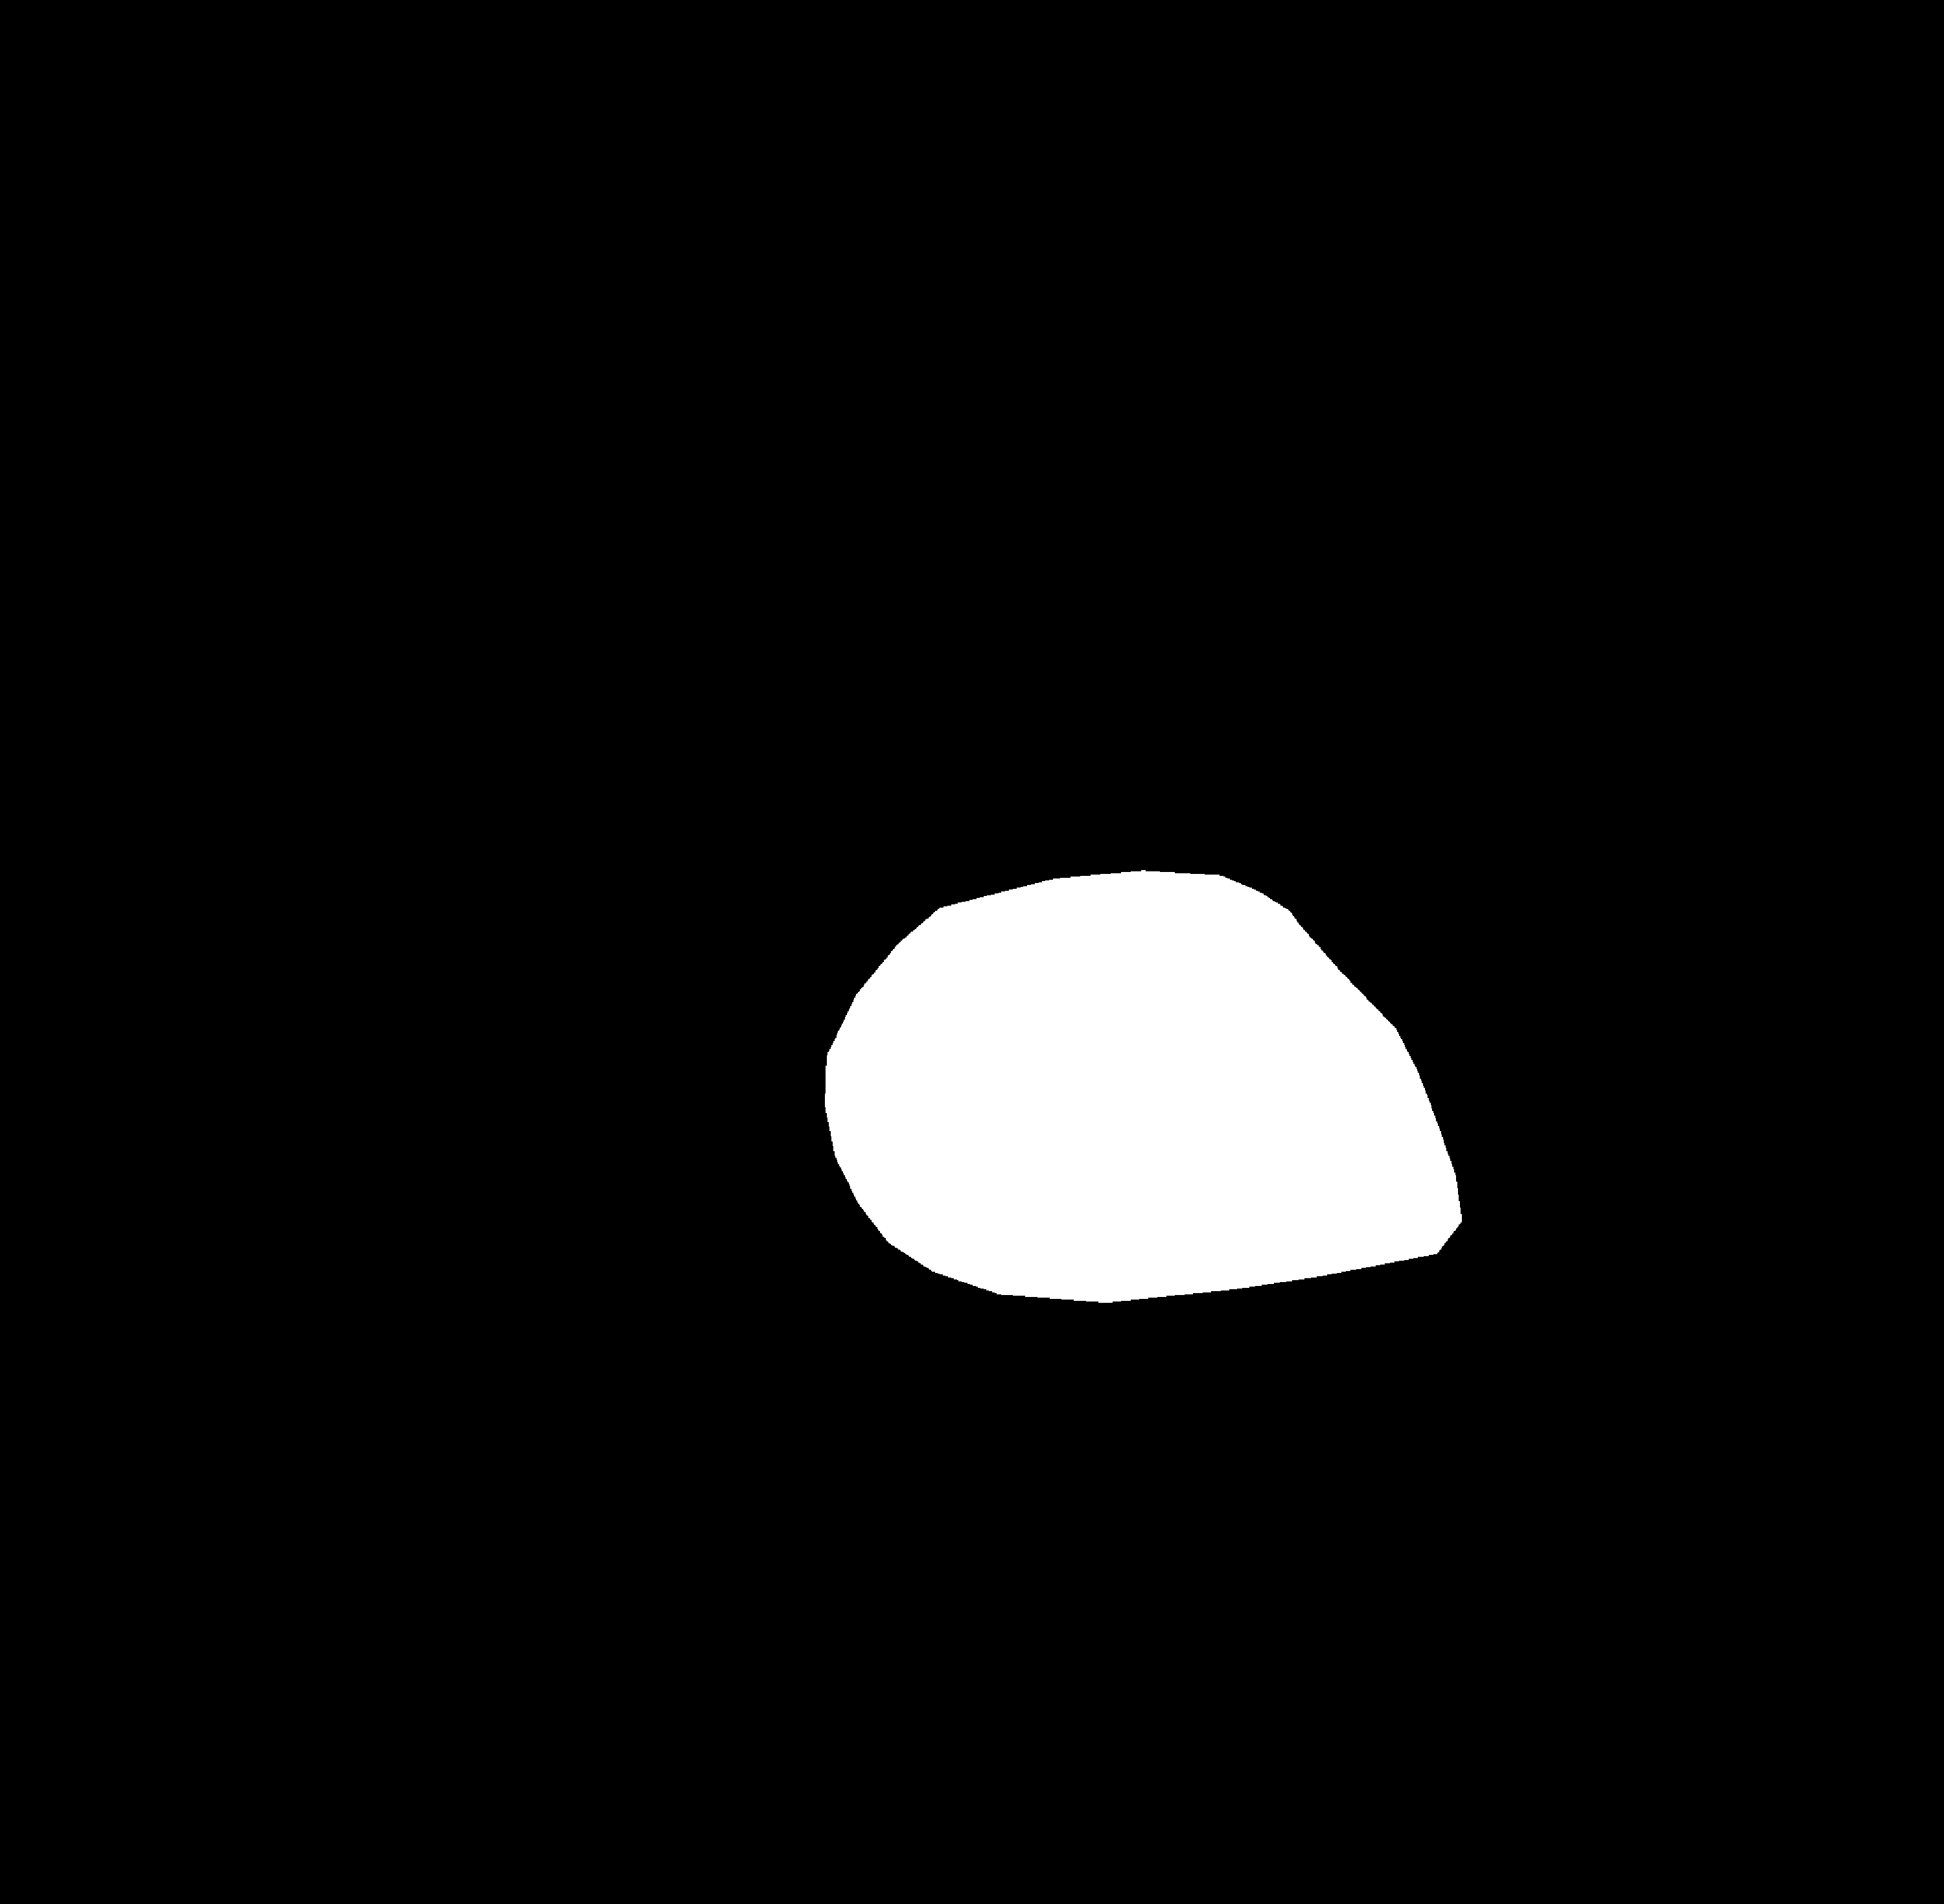heart: (825, 922, 1487, 1318)
left_lung: (336, 295, 964, 1383)
right_lung: (1144, 302, 1698, 1386)
